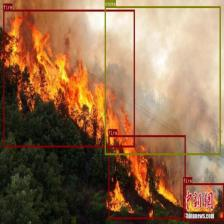fire: (3, 9, 135, 147), (108, 135, 185, 219), (183, 183, 224, 220)
smoke: (104, 6, 220, 155)
